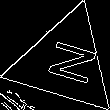N_W: (34, 36, 95, 89)
